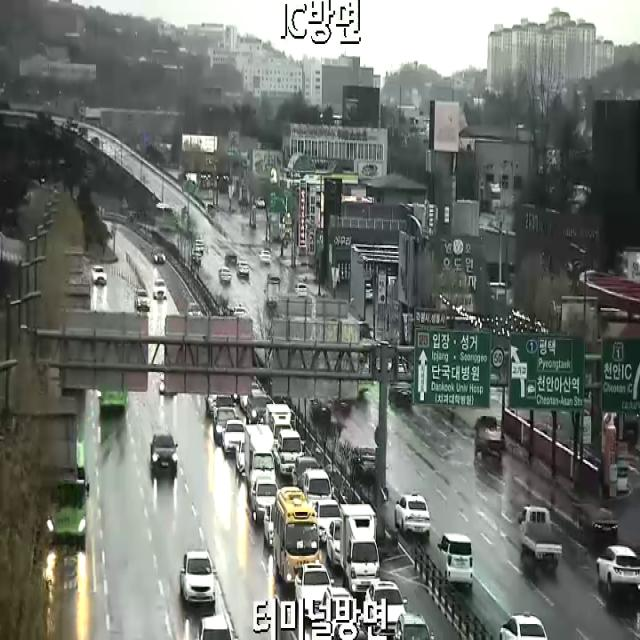Bus: (274, 486, 322, 584), (46, 440, 89, 536), (97, 389, 128, 411)
Car: (365, 580, 408, 635), (295, 564, 334, 620), (181, 548, 217, 608), (596, 545, 640, 592), (437, 533, 473, 586), (323, 586, 353, 636), (395, 494, 430, 536), (274, 430, 306, 474), (500, 612, 548, 640), (150, 433, 178, 478), (578, 508, 618, 539), (252, 476, 278, 523), (315, 500, 342, 541), (393, 613, 434, 640), (196, 615, 238, 640), (304, 469, 334, 500), (213, 410, 238, 446), (326, 520, 343, 569), (246, 392, 272, 423), (292, 458, 320, 486), (222, 420, 245, 453), (388, 382, 414, 408), (352, 446, 376, 474), (240, 382, 260, 412), (332, 624, 368, 640), (214, 395, 236, 420), (309, 399, 332, 421), (263, 504, 274, 548), (159, 373, 178, 395), (134, 290, 150, 310), (387, 358, 407, 373), (204, 394, 217, 417), (237, 440, 245, 476), (153, 278, 166, 300), (92, 266, 106, 286), (151, 249, 166, 266), (237, 261, 250, 278), (187, 303, 203, 316), (225, 252, 238, 267), (294, 283, 308, 296), (234, 304, 249, 316), (260, 250, 271, 266), (220, 267, 231, 283), (366, 282, 374, 304), (195, 240, 204, 256), (256, 197, 265, 208)
Truck: (340, 504, 380, 592), (519, 506, 562, 566), (244, 426, 276, 496), (474, 416, 504, 459), (266, 404, 294, 444), (266, 274, 281, 306)
